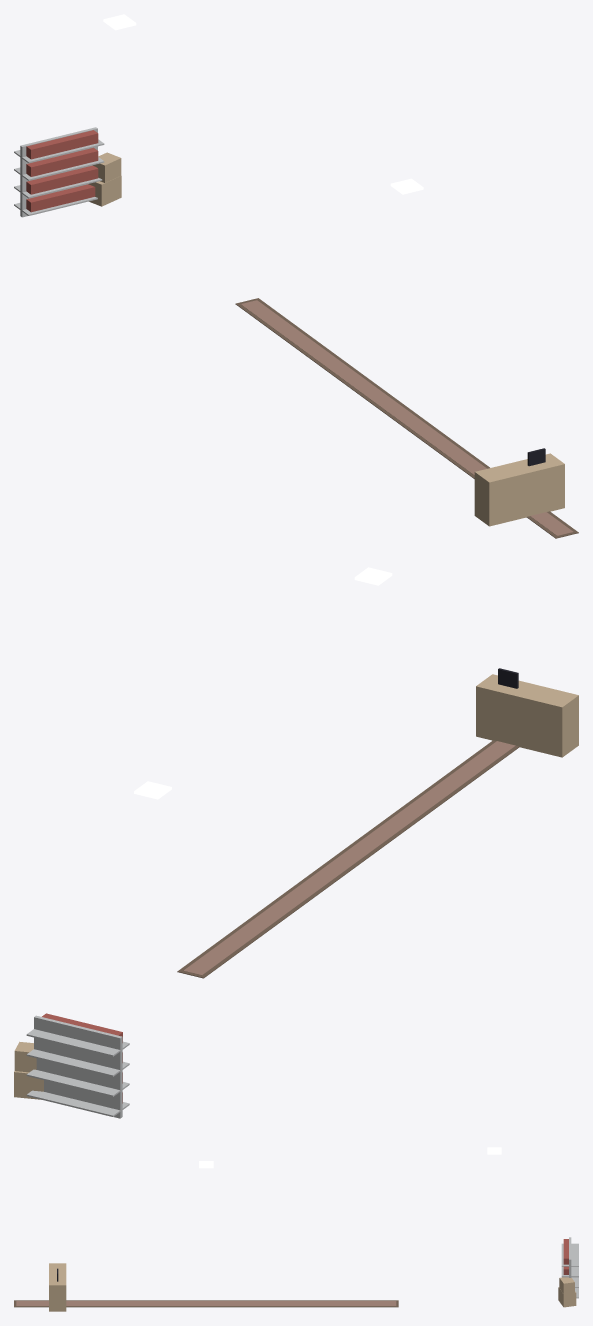
The model's file is fine-s0.glb.
3 views of the same model, one above another, from view 1: azimuth 30°, elevation 25°; view 2: azimuth 150°, elevation 25°; view 3: azimuth 270°, elevation 25° (orthographic). The views are drawn at different scales.
Visible parts, largest first — view 1: soft-s0, shelving.000, shop-counter.000, cardboard-box.000; view 2: soft-s0, shelving.000, shop-counter.000, cardboard-box.000; view 3: soft-s0, shop-counter.000, shelving.000, cardboard-box.000.
Boxes of the visible parts, box(x1,y1,x2,y2) form: soft-s0: box(235, 298, 578, 538); shelving.000: box(14, 127, 104, 217); shop-counter.000: box(474, 448, 564, 526); cardboard-box.000: box(88, 152, 121, 206); soft-s0: box(177, 740, 519, 978); shelving.000: box(26, 1013, 129, 1118); shop-counter.000: box(476, 668, 578, 757); cardboard-box.000: box(14, 1041, 43, 1099); soft-s0: box(14, 1300, 398, 1307); shop-counter.000: box(49, 1263, 66, 1311); shelving.000: box(561, 1237, 578, 1298); cardboard-box.000: box(558, 1277, 576, 1307).
Size of the model in its own units: 2.6 by 5.3 by 19.39.
